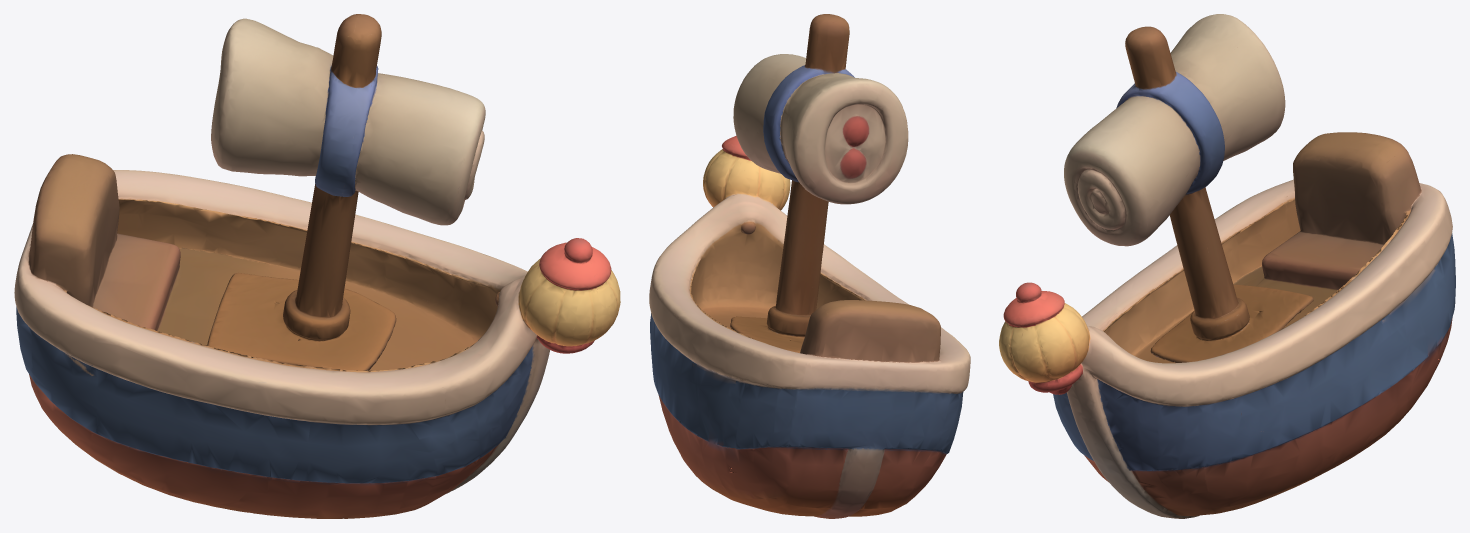
Rendered from boat.glb.
3 renders of one model, left to right at view 1: azimuth 30°, elevation 25°; view 2: azimuth 150°, elevation 25°; view 3: azimuth 270°, elevation 25°, orthographic. The views are drawn at different scales.
Bounding box in the file's own units: 0.7893 × 0.872 × 0.7933.
Materials: 1 (1 with a texture image).
